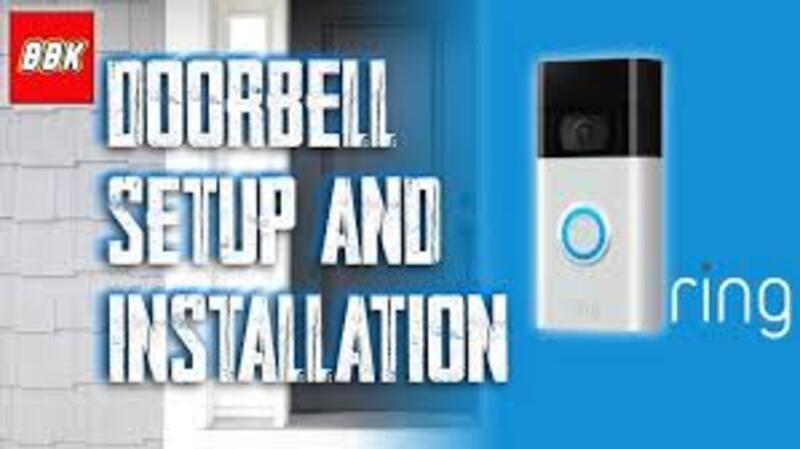doorbell: (547, 65, 648, 313)
